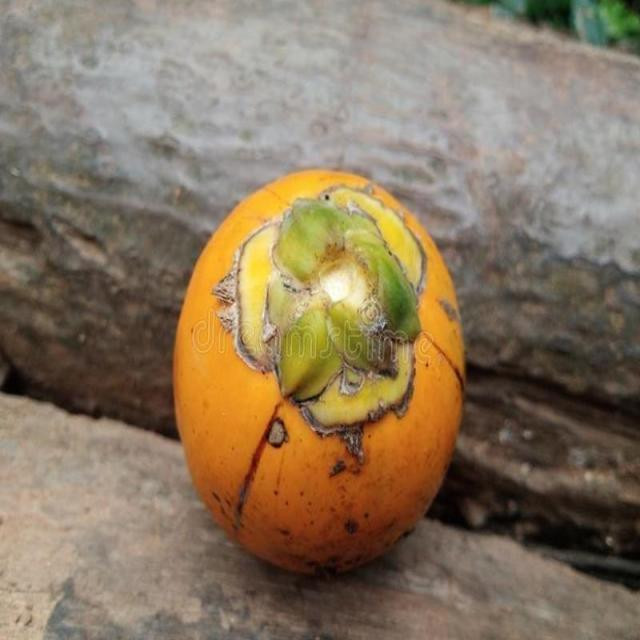good: (171, 170, 466, 579)
